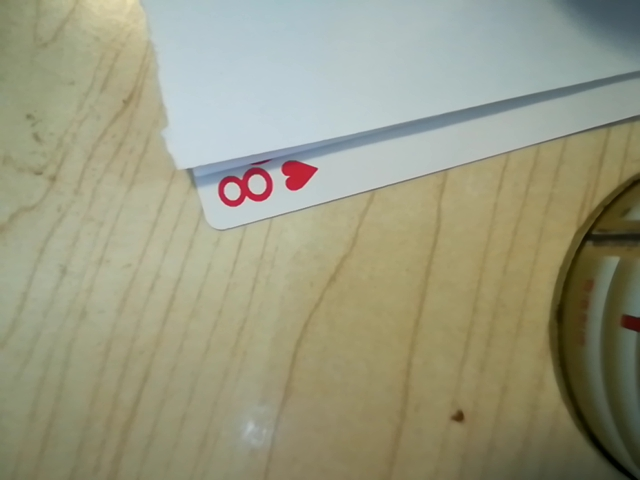hx 8: (207, 146, 322, 219)
